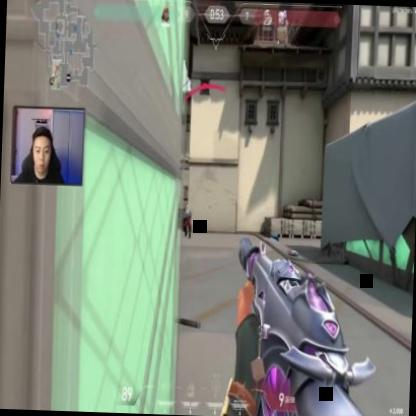enemy: (182, 202, 192, 240)
enemy_head: (186, 204, 188, 210)
